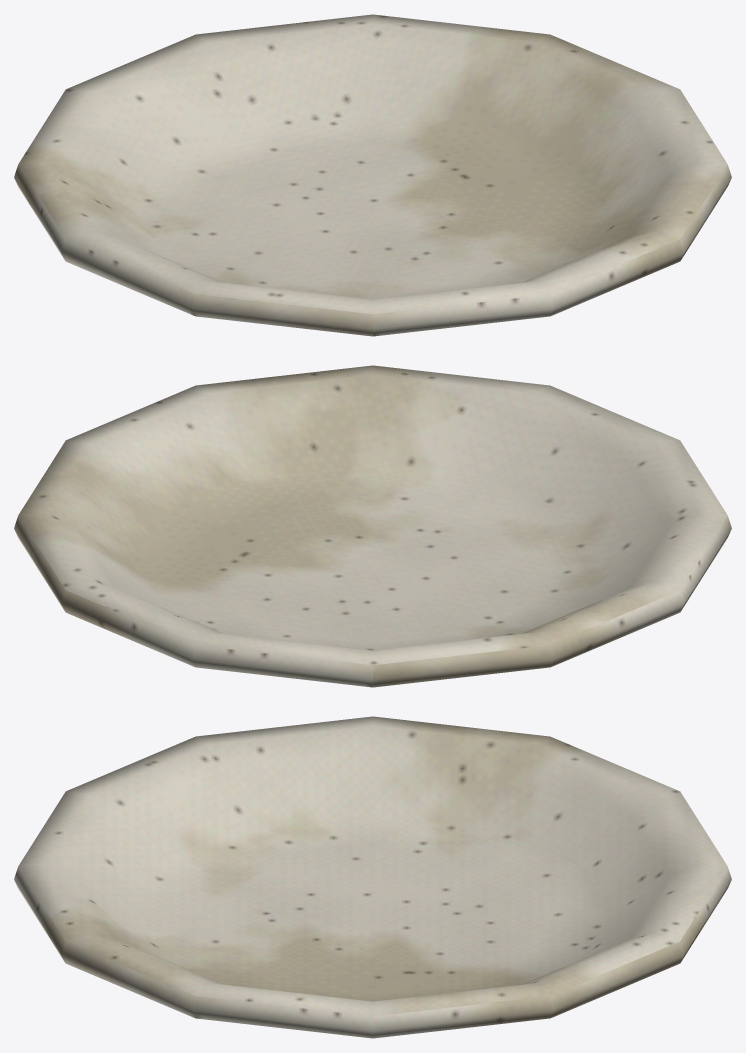
Rendered from TeaCupPlate.fbx.
3 views of the same model, one above another, from view 1: azimuth 30°, elevation 25°; view 2: azimuth 150°, elevation 25°; view 3: azimuth 270°, elevation 25° (orthographic).
Visible parts, largest first — view 1: TeaCupPlate; view 2: TeaCupPlate; view 3: TeaCupPlate.
Part boxes in pixels (x1,y1,x2,y2): TeaCupPlate: [14, 14, 731, 336]; TeaCupPlate: [14, 365, 731, 687]; TeaCupPlate: [14, 716, 731, 1038].
Size of the model in its own units: 0.1609 by 0.0173 by 0.1609.
Materials: 1 (1 with a texture image).
